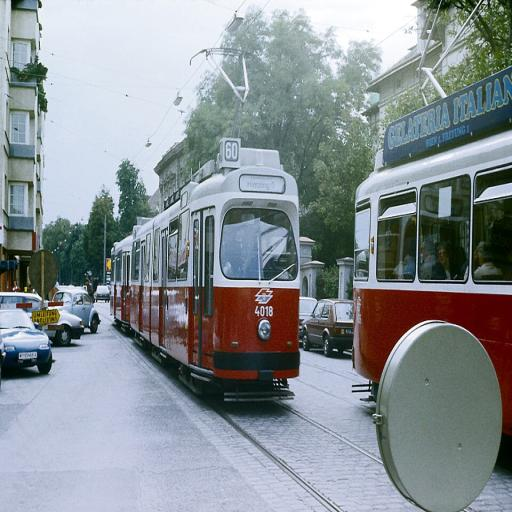E2-Tram: (101, 140, 303, 404)
